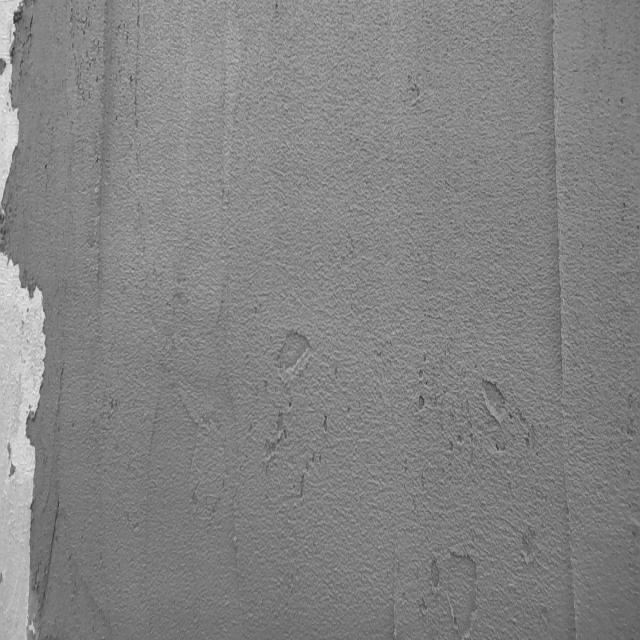trowels marks: (545, 11, 568, 640), (90, 7, 115, 306)
